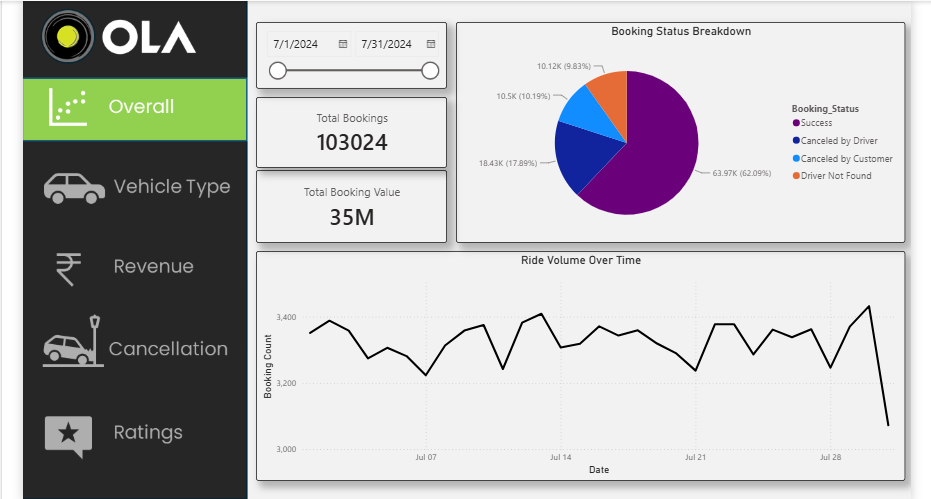

The dashboard page shown, as its layout file describes it:
{"tool":"powerbi","page":{"name":"Page 1","canvas":[1280,720],"ordinal":0},"visuals":[{"type":"actionButton","box":[0,220.3,325.4,90.7],"z":0},{"type":"actionButton","box":[0,337,325.4,90.7],"z":1},{"type":"actionButton","box":[0,449.3,325.4,90.7],"z":2},{"type":"actionButton","box":[0,580.3,325.4,90.7],"z":3},{"type":"lineChart","title":"Ride Volume Over Time","fields":{"Y":["CountNonNull(July.Booking_ID)"],"Category":["July.Date"]},"box":[335.5,360,934.6,331.2],"z":4},{"type":"pieChart","title":"Booking Status Breakdown","fields":{"Category":["July.Booking_Status"],"Y":["CountNonNull(July.Booking_Status)"]},"box":[623.5,30.2,646.6,318.2],"z":5},{"type":"slicer","fields":{"Values":["July.Date"]},"box":[335.5,30.2,275,96.5],"z":6},{"type":"cardVisual","title":"Total Bookings","fields":{"Data":["CountNonNull(July.Booking_ID)"]},"box":[335.5,138.2,275,102.2],"z":7},{"type":"cardVisual","title":"Total Bookings","fields":{"Data":["Sum(July.Booking_Value)"]},"box":[335.5,243.4,275,105.1],"z":8}]}

Visuals, with their boxes on the page's 1280x720 design canvas (x1, y1, x2, y2). These are canvas units, not pixel positions in the 931x499 screenshot, which may show the page scaled, cropped or inside an application window:
actionButton: bbox(0, 220, 325, 311)
actionButton: bbox(0, 337, 325, 428)
actionButton: bbox(0, 449, 325, 540)
actionButton: bbox(0, 580, 325, 671)
"Ride Volume Over Time" lineChart: bbox(336, 360, 1270, 691)
"Booking Status Breakdown" pieChart: bbox(624, 30, 1270, 348)
slicer - July.Date: bbox(336, 30, 610, 127)
"Total Bookings" cardVisual: bbox(336, 138, 610, 240)
"Total Bookings" cardVisual: bbox(336, 243, 610, 348)
